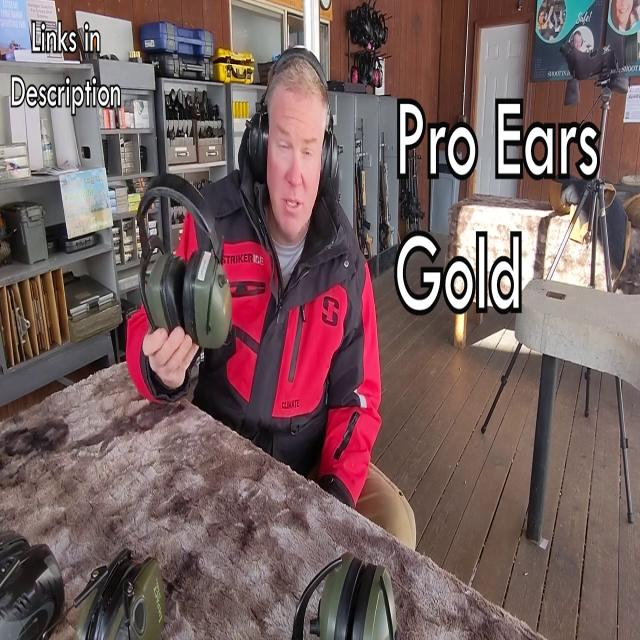earmuff: (184, 248, 234, 352), (140, 241, 182, 340), (241, 102, 271, 186), (320, 124, 346, 198)
